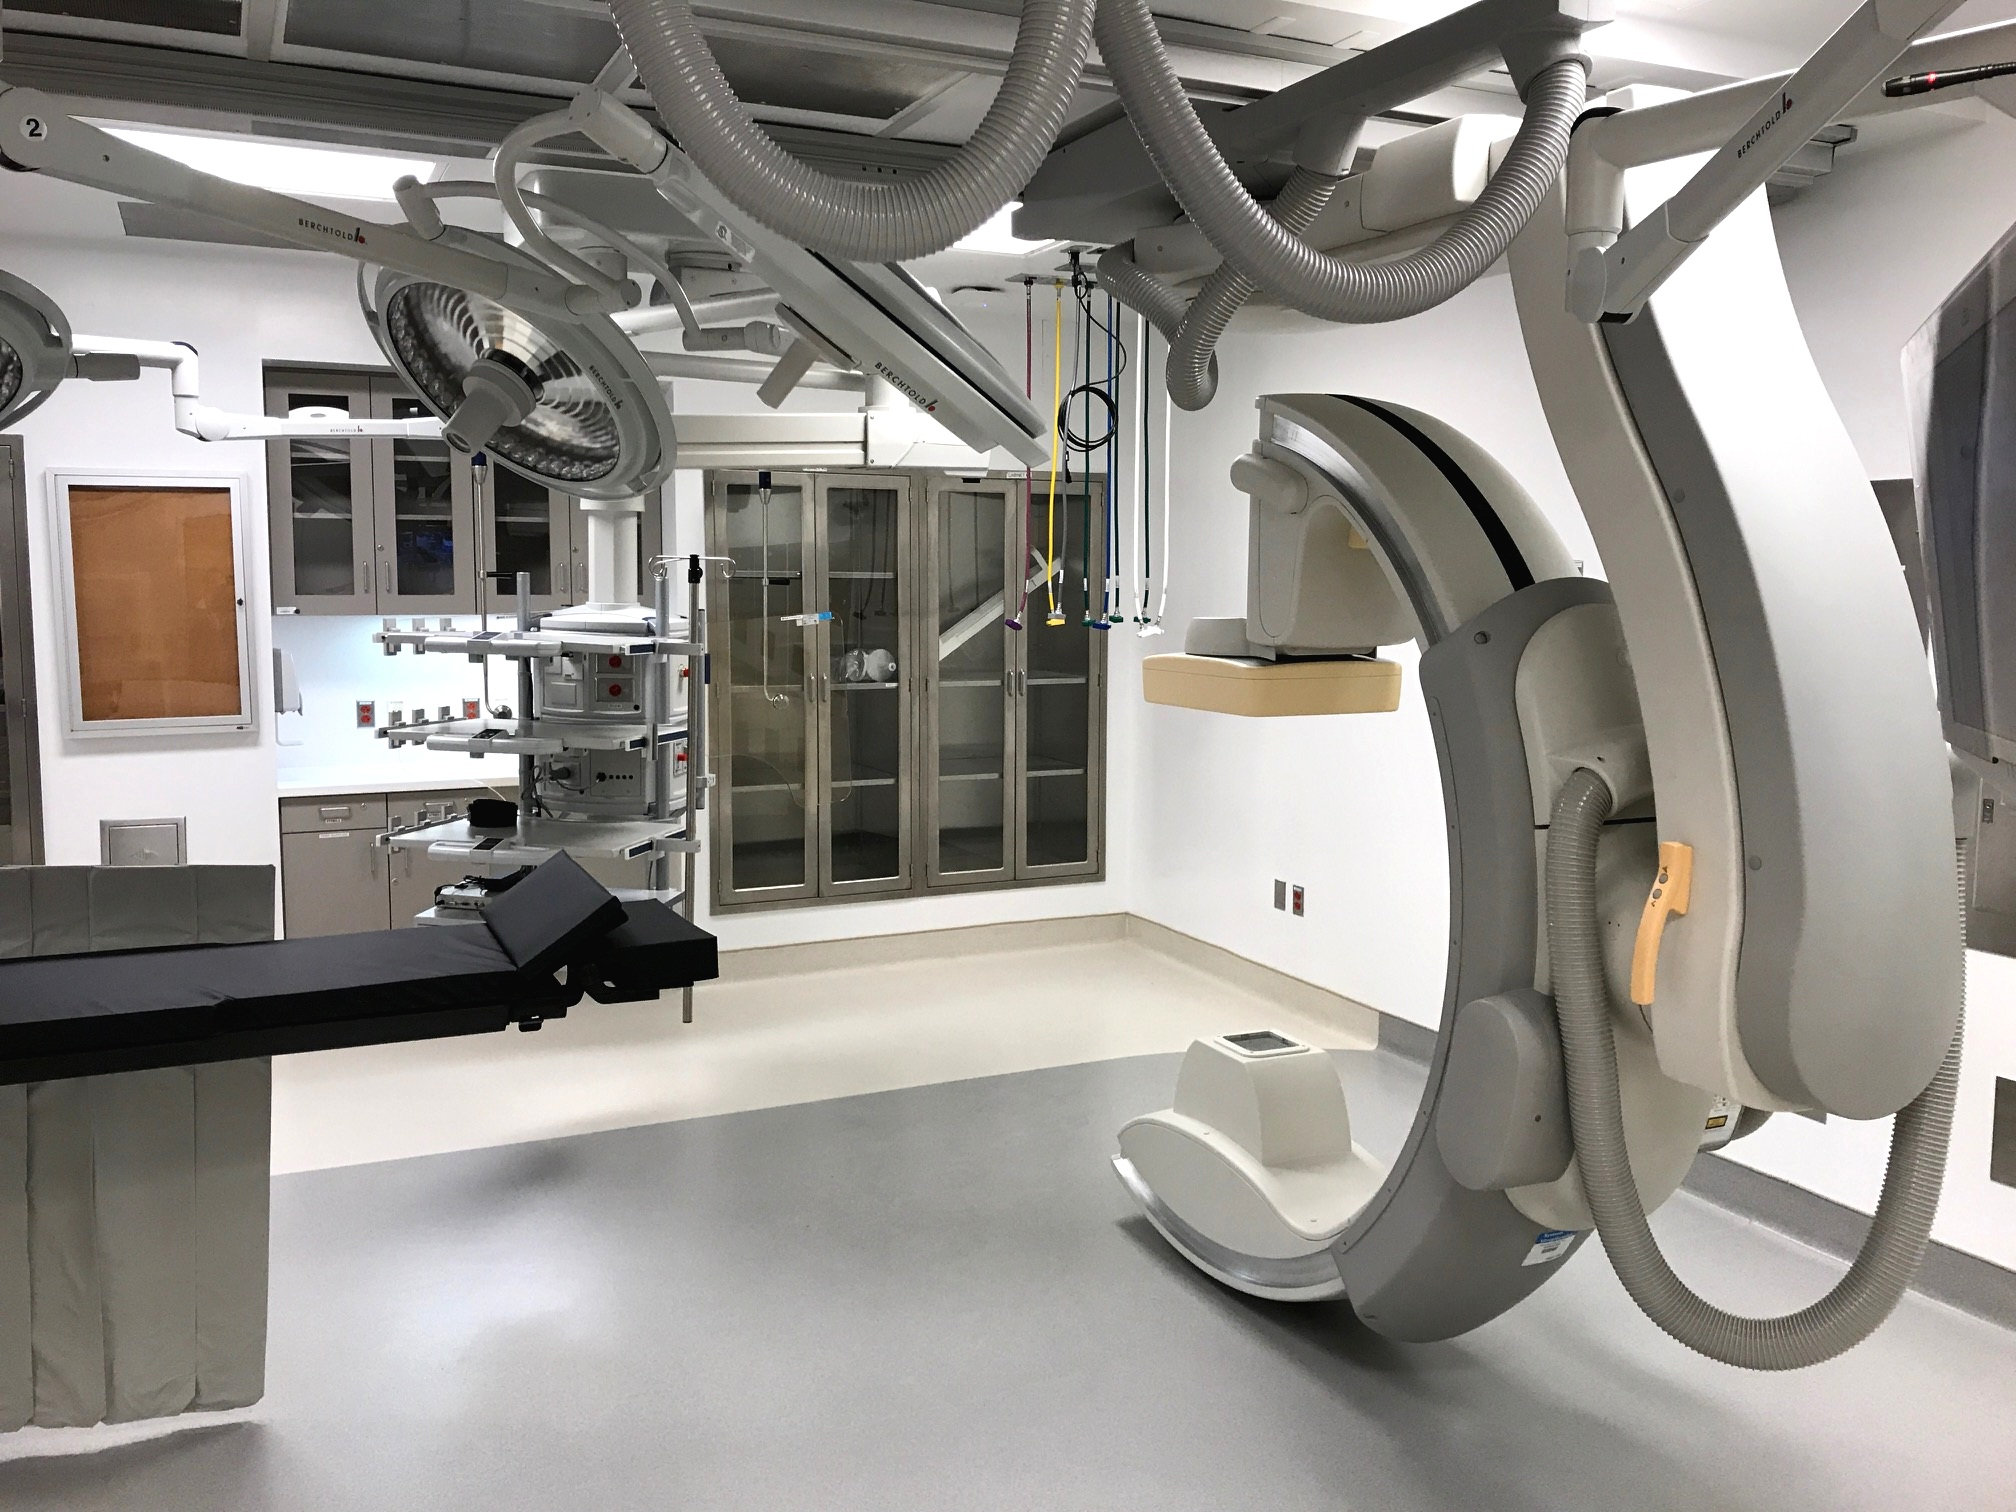cabinet: (695, 470, 1116, 897), (268, 362, 633, 611)
dispenser: (271, 642, 308, 751)
drawer: (271, 772, 556, 939)
electrosurgical_unit: (529, 740, 711, 813)
handle: (311, 805, 357, 820), (819, 673, 837, 700), (384, 561, 397, 596), (1018, 665, 1030, 697), (576, 562, 587, 594), (1006, 669, 1018, 697), (806, 673, 818, 702), (317, 831, 352, 839), (359, 557, 367, 592), (559, 561, 565, 594)
iv_pole: (649, 554, 744, 1024)
operating_bed: (2, 847, 752, 1202)
surgical_light: (329, 221, 684, 503), (2, 256, 76, 445)
